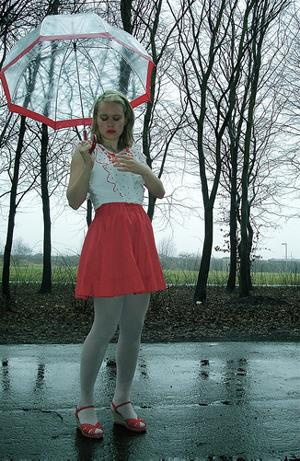person: (67, 91, 167, 440)
